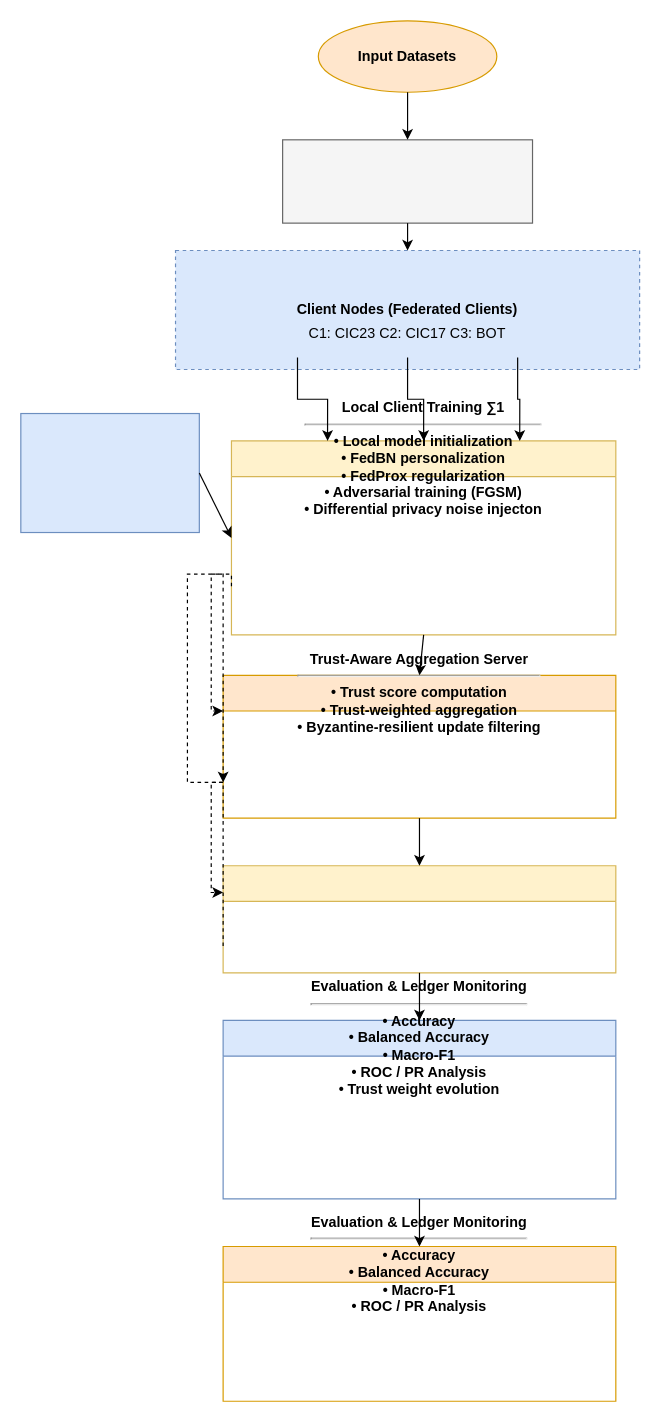
This 660x1422 diagram has some shape labels left out. Each missing label, with the box of its shape:
CIC-IoT23 • CIC-IDS2017 • BOT: (281, 139, 533, 223)
Global Model Update • Aggregated model generation • Global model distribution: (222, 865, 616, 973)
Secure Model Update Sharing (Only model parameters transmitted): (20, 412, 199, 533)
